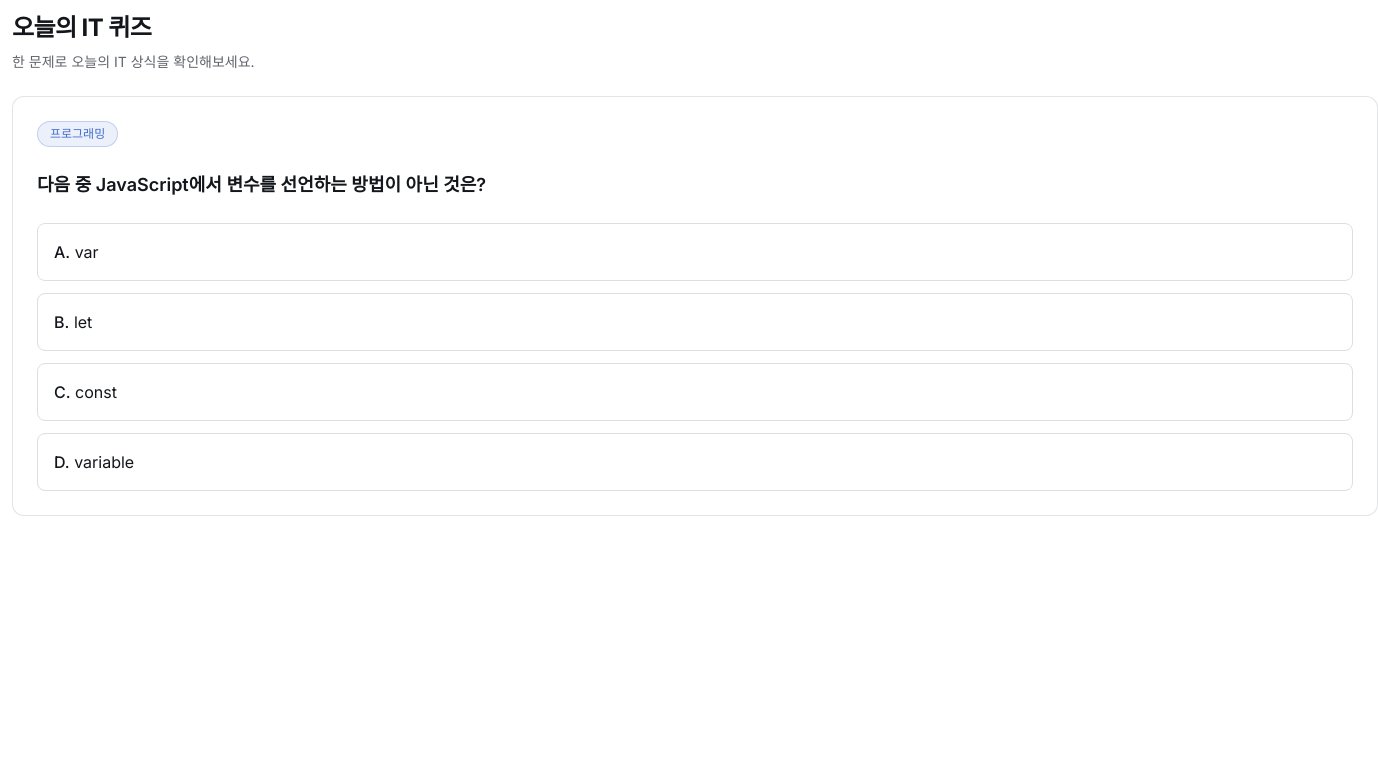
it: TodayQuiz › 정답을 제출하면 결과와 해설을 보여주고 선택지를 잠근다
Expected: the heading "다음 중 JavaScript에서 변수를 선언하는 방법이 아닌 것은?" is shown, 37,174 -> 486,195
Click the button "A. var": (60, 252) 37,223 -> 1353,281
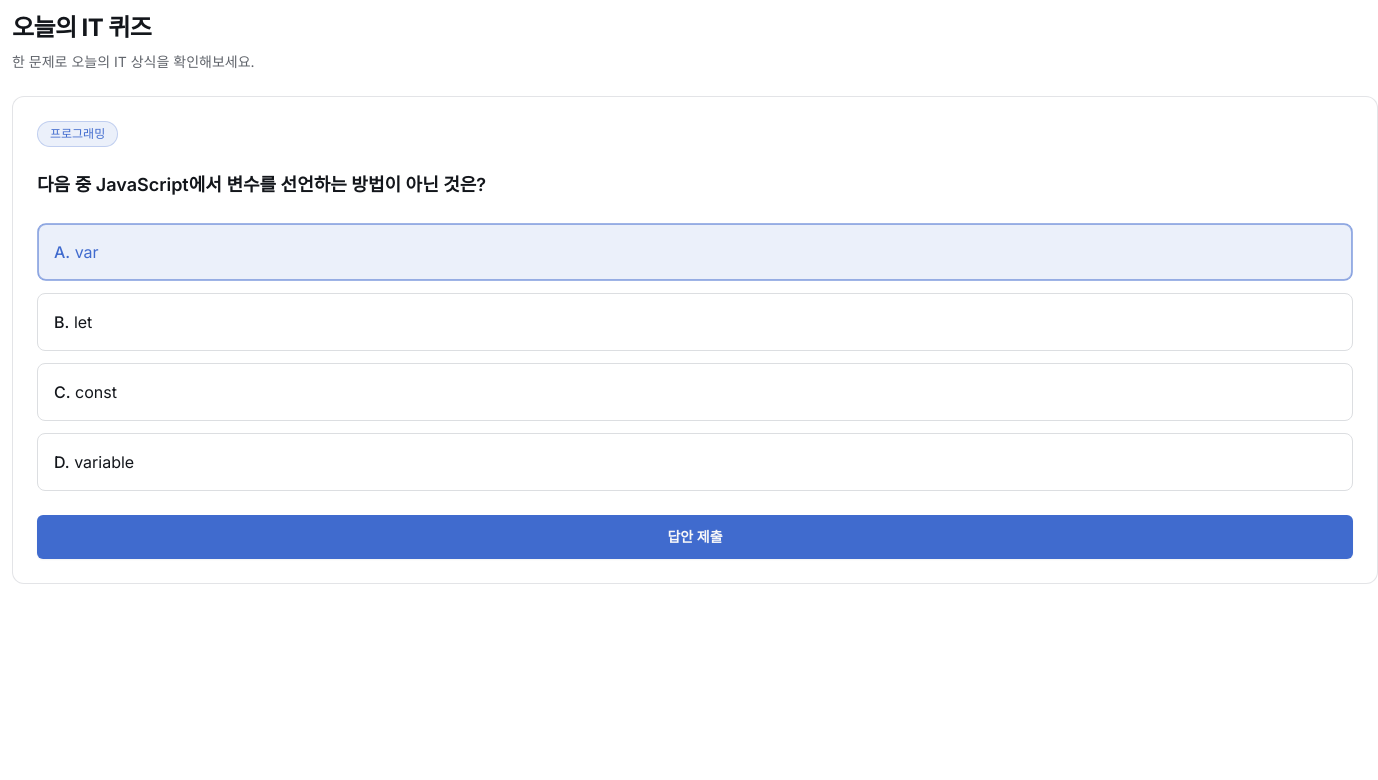
Click the button "답안 제출": (695, 537) 37,515 -> 1353,559
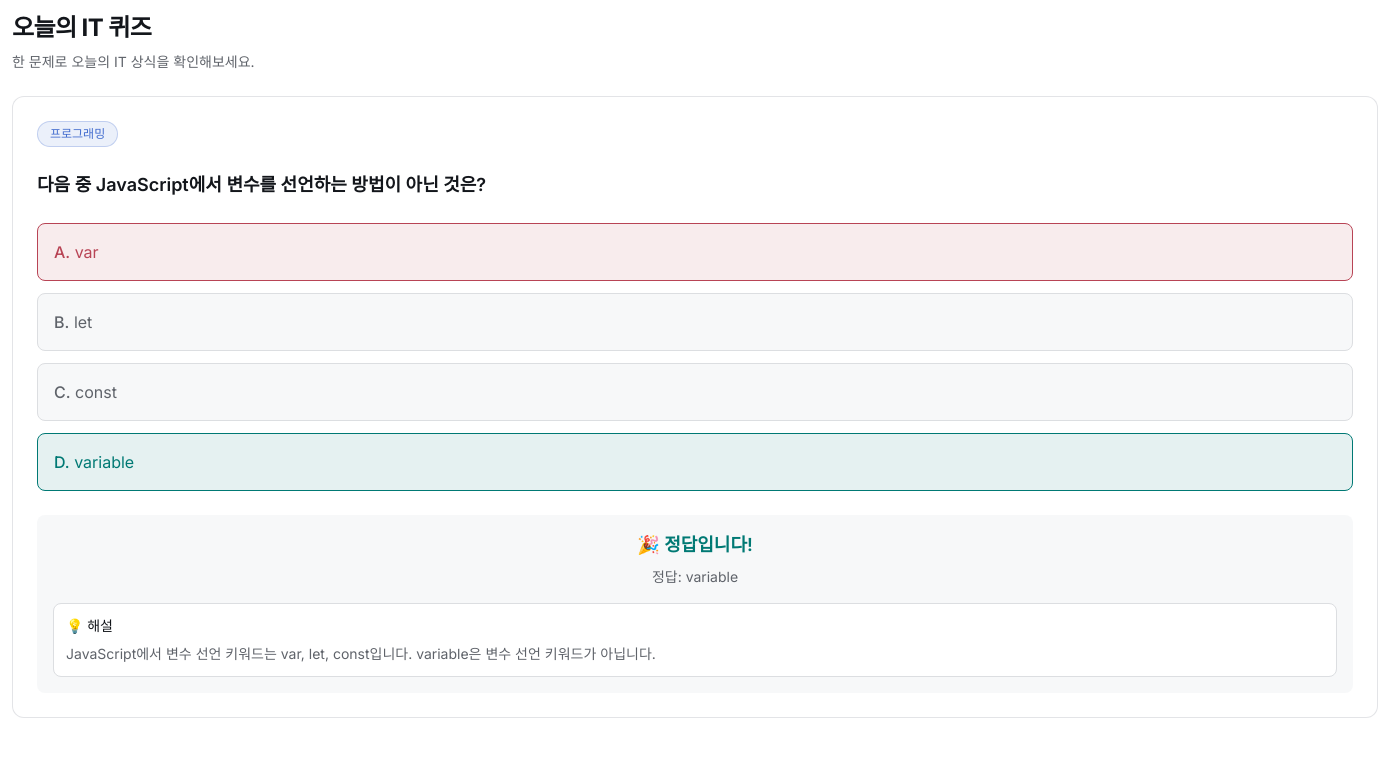
Result: the text "🎉 정답입니다!" is shown at 637,534 -> 753,555
Result: the text "JavaScript에서 변수 선언 키워드는 var, let, const입니다. variable은 변수 선언 키워드가 아닙니다." is shown at 66,645 -> 656,662
Result: the button "답안 제출" is gone
